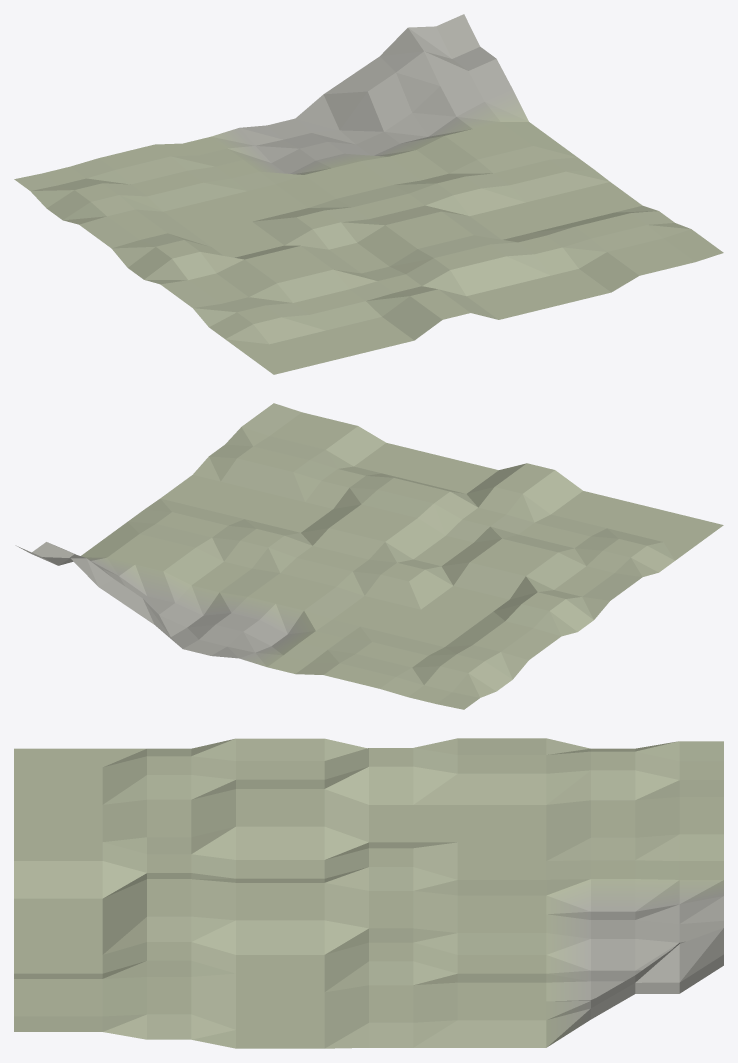
3 views of the same model, one above another, from view 1: azimuth 30°, elevation 25°; view 2: azimuth 150°, elevation 25°; view 3: azimuth 270°, elevation 25° (orthographic). The views are drawn at different scales.
Bounding box in the file's own units: 32 × 4.93 × 32.
